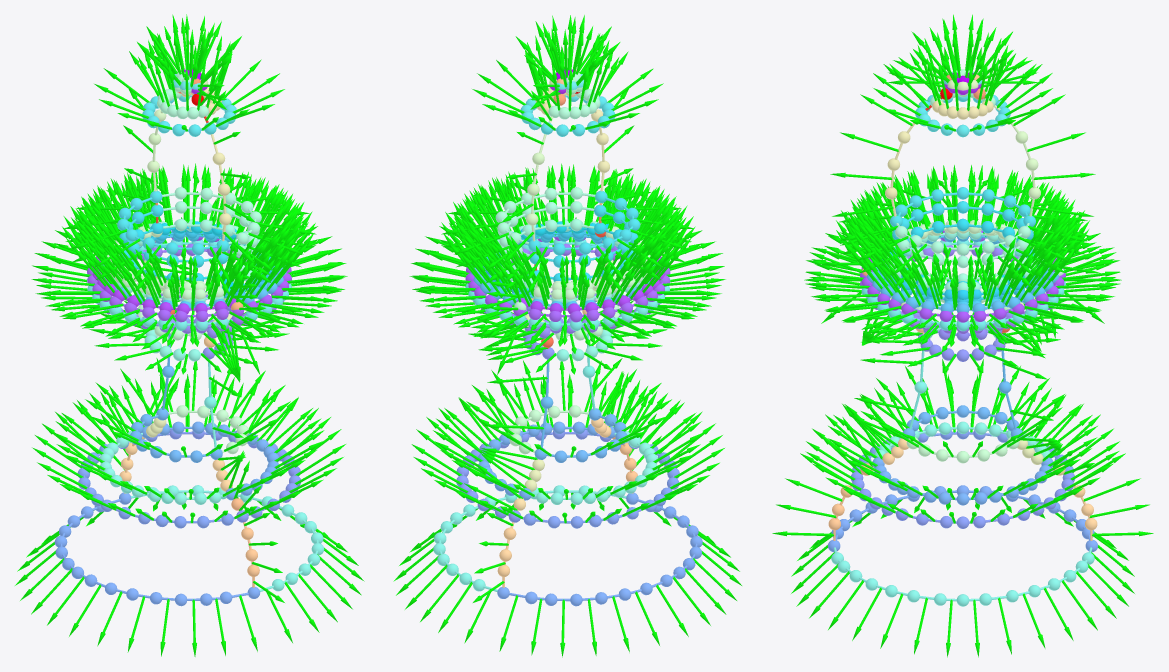
The model's file is onshape_bishop.gltf.
The picture shows the model from 3 angles, left to right: view 1: azimuth 30°, elevation 25°; view 2: azimuth 150°, elevation 25°; view 3: azimuth 270°, elevation 25°; orthographic projection.
Size of the model in its own units: 0.5529 by 0.9832 by 0.6069.
